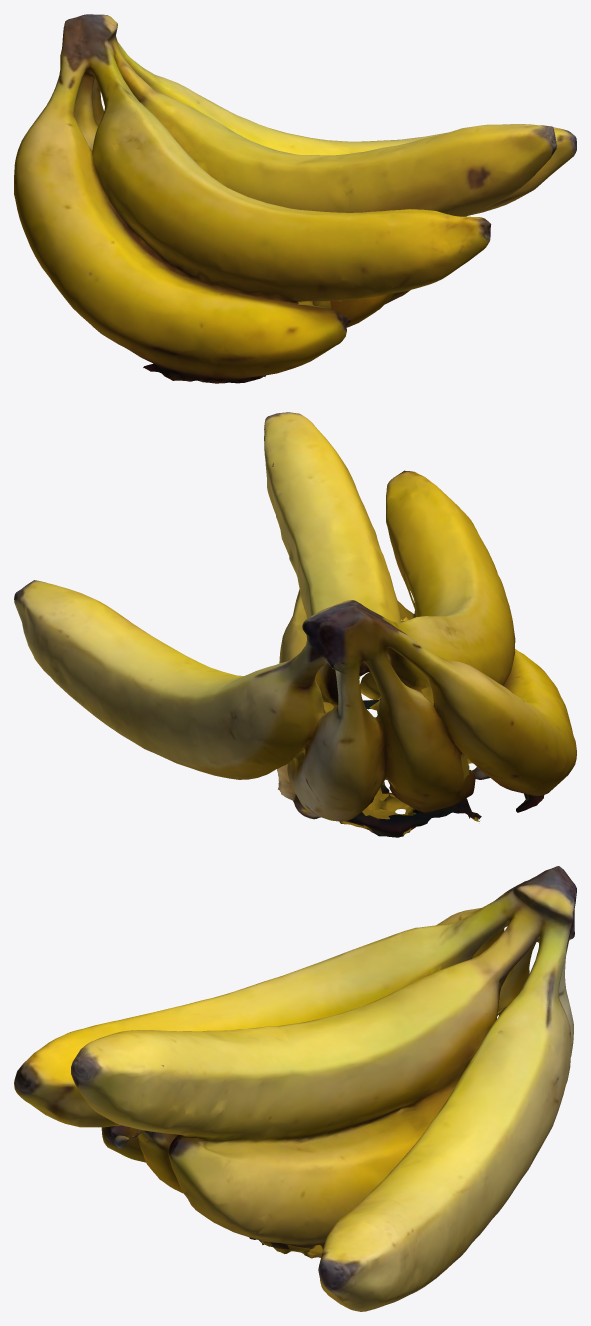
Rendered from panino.glb.
3 views of the same model, one above another, from view 1: azimuth 30°, elevation 25°; view 2: azimuth 150°, elevation 25°; view 3: azimuth 270°, elevation 25° (orthographic). The views are drawn at different scales.
Visible parts, largest first — view 1: Mesh_0; view 2: Mesh_0; view 3: Mesh_0.
Part boxes in pixels (box(x1,y1,x2,y2)): Mesh_0: box(14, 14, 576, 383); Mesh_0: box(14, 412, 576, 837); Mesh_0: box(14, 866, 576, 1311).
Bounding box in the file's own units: 0.3194 × 0.1661 × 0.2591.
5 materials, 5 textured.
